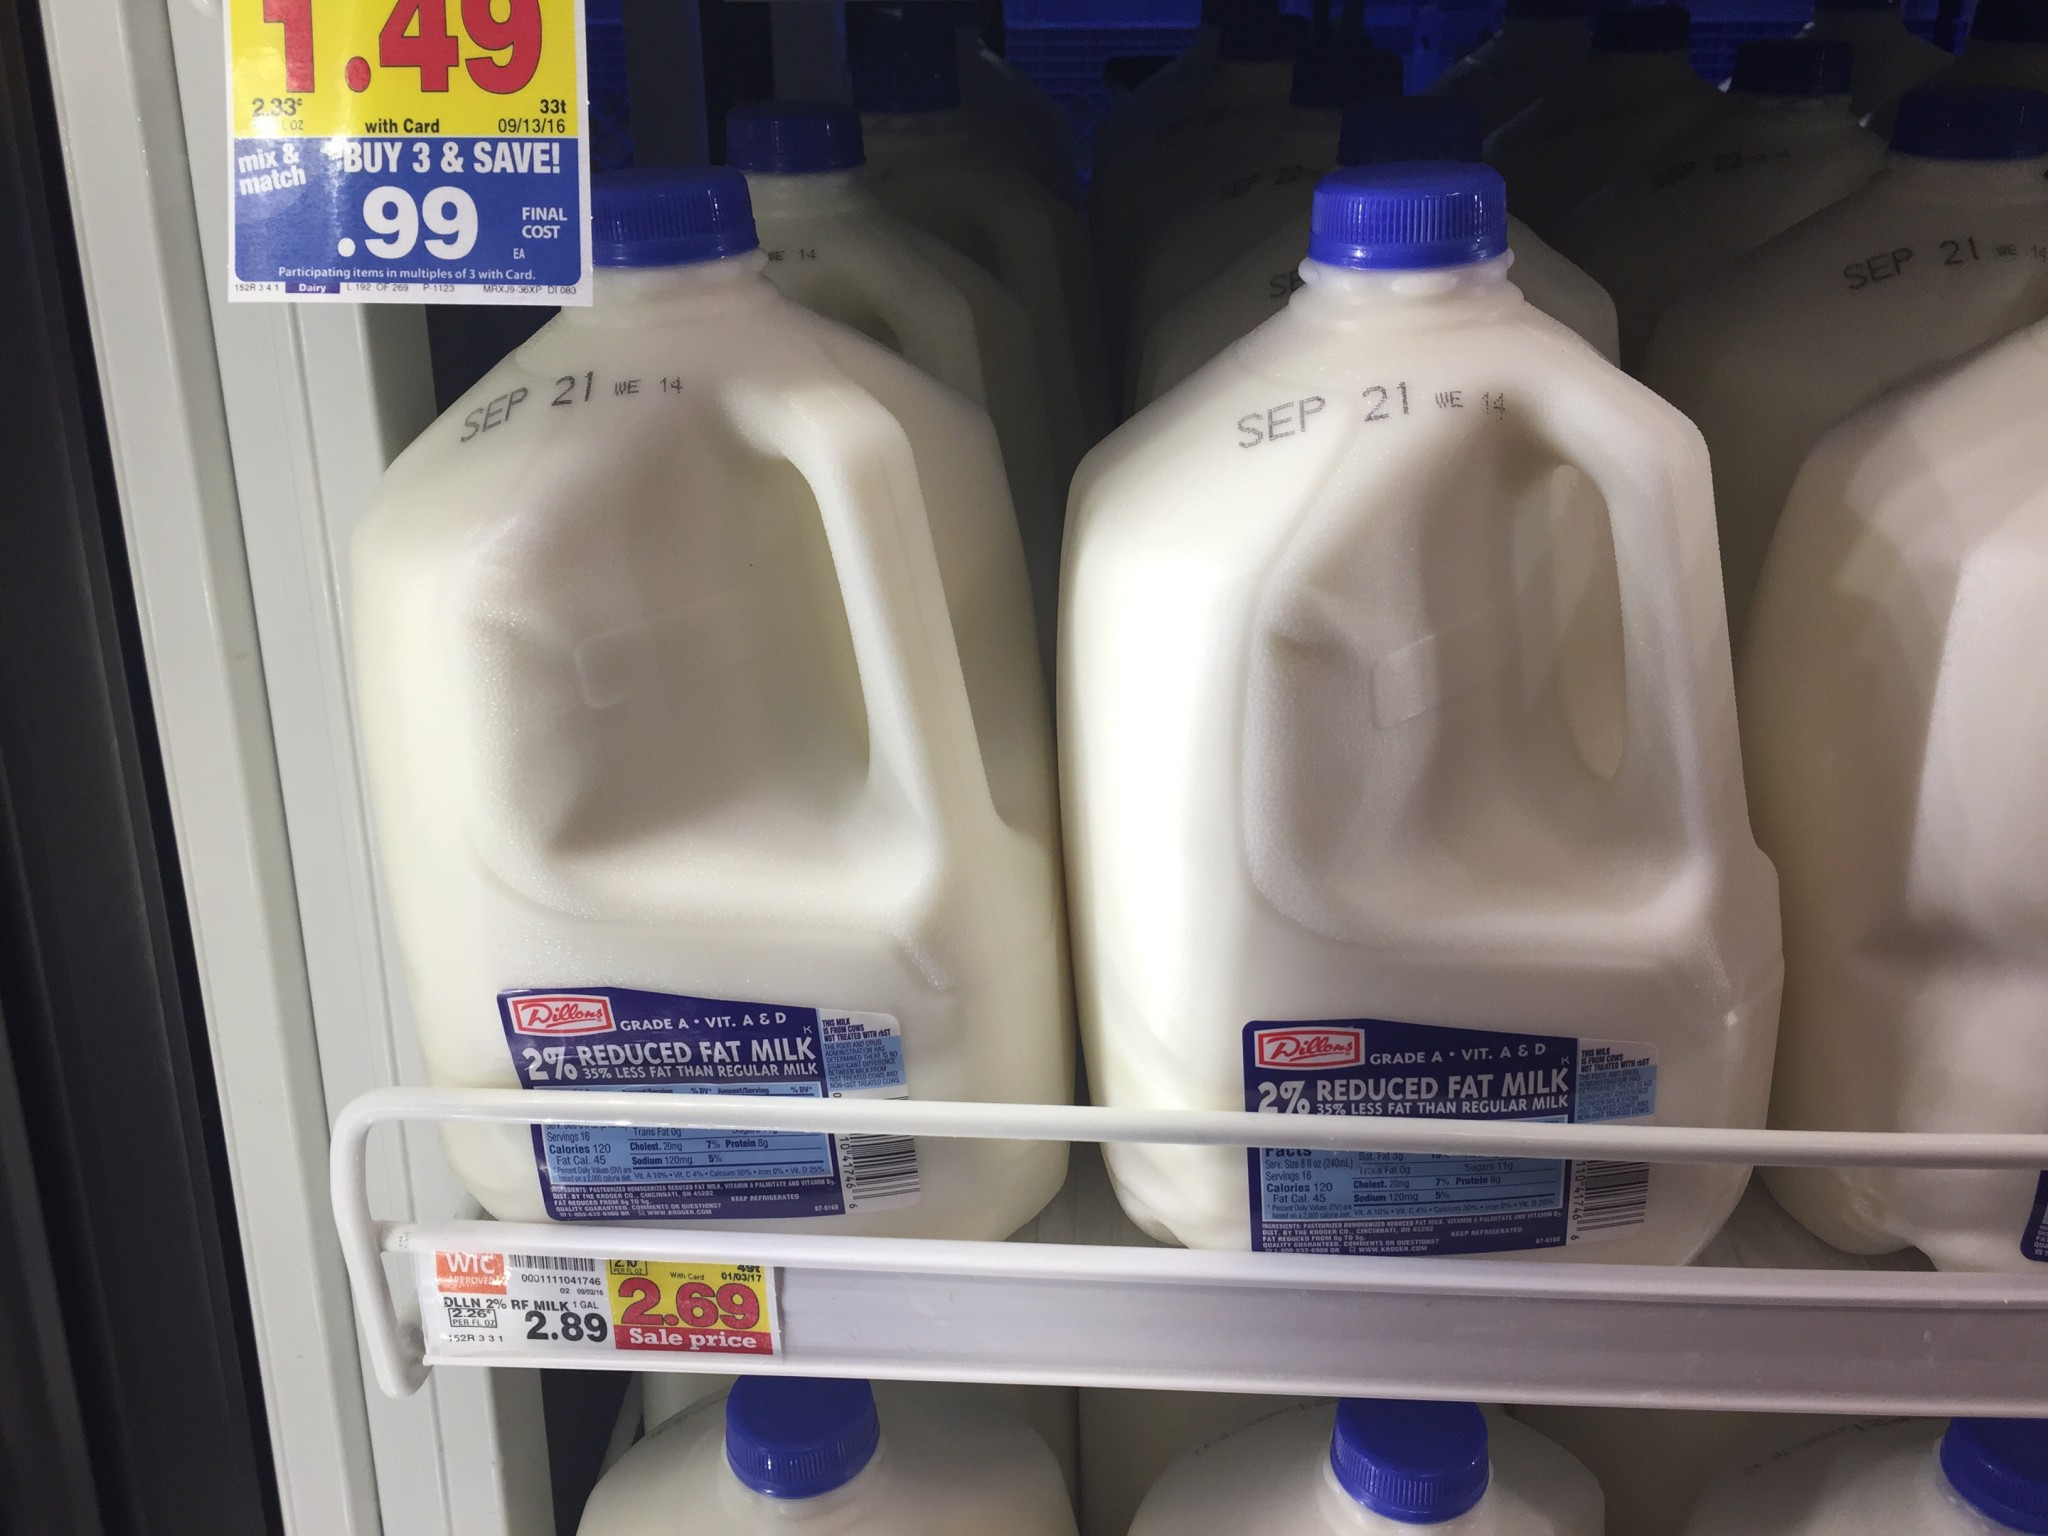milk: (1085, 189, 1793, 1278), (353, 336, 1113, 1275), (1792, 315, 2048, 1049), (568, 1368, 1026, 1536), (735, 98, 1039, 336), (1122, 1396, 1614, 1536), (605, 152, 827, 318), (1730, 1421, 2046, 1536)
